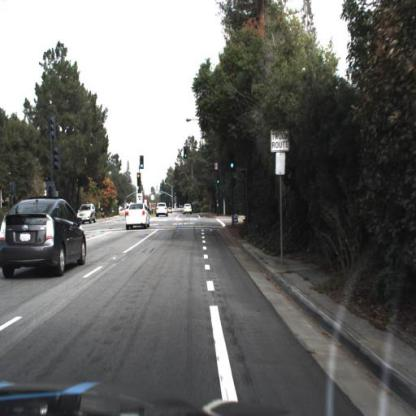car: (0, 196, 89, 286), (121, 199, 150, 237), (78, 202, 96, 223), (182, 196, 196, 218), (155, 201, 169, 221)
trafficLight-Green: (228, 150, 236, 172), (214, 172, 222, 190), (138, 154, 146, 170), (181, 145, 189, 160), (138, 156, 145, 172), (182, 146, 187, 162), (229, 157, 234, 171), (215, 175, 220, 187)
trafficLight-RedLeft: (135, 172, 143, 188), (135, 170, 141, 182)
